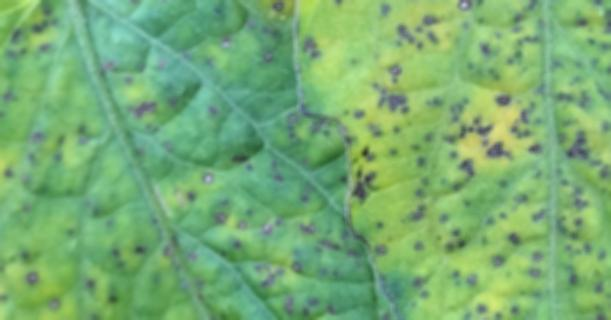Tomato Septoria leaf spot: (0, 0, 474, 320), (291, 0, 611, 320)
